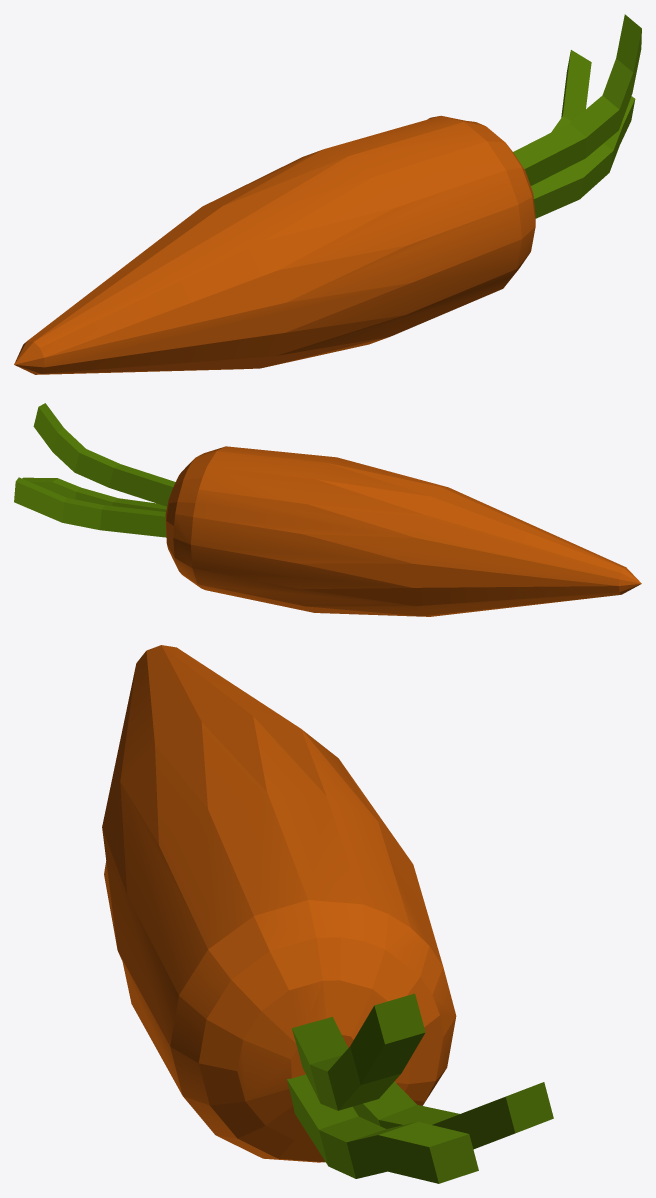
File: Carrot.glb
3 renders of one model, top to bottom at view 1: azimuth 30°, elevation 25°; view 2: azimuth 150°, elevation 25°; view 3: azimuth 270°, elevation 25°, orthographic. The views are drawn at different scales.
Parts seen in each view (by area): view 1: Carrot; view 2: Carrot; view 3: Carrot.
Part boxes in pixels (x1=…): Carrot: x1=14, y1=14, x2=641, y2=374; Carrot: x1=14, y1=403, x2=641, y2=616; Carrot: x1=102, y1=645, x2=553, y2=1183.
Bounding box in the file's own units: 1.29 × 0.3668 × 0.457.
